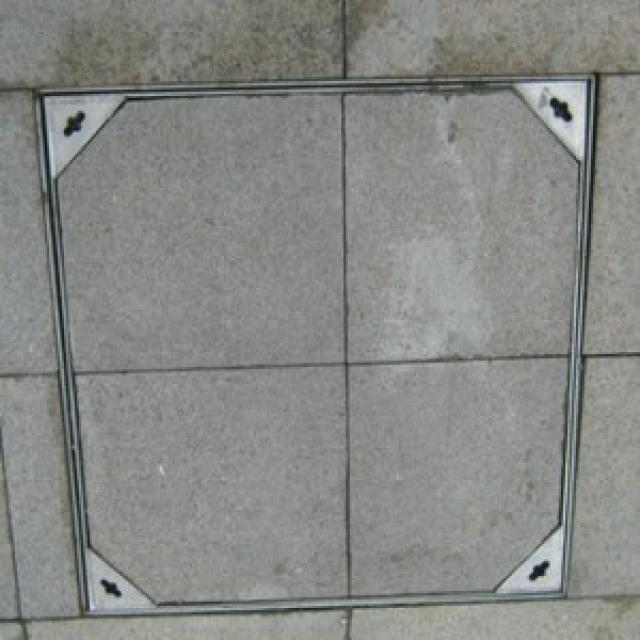manhole: (42, 76, 593, 612)
